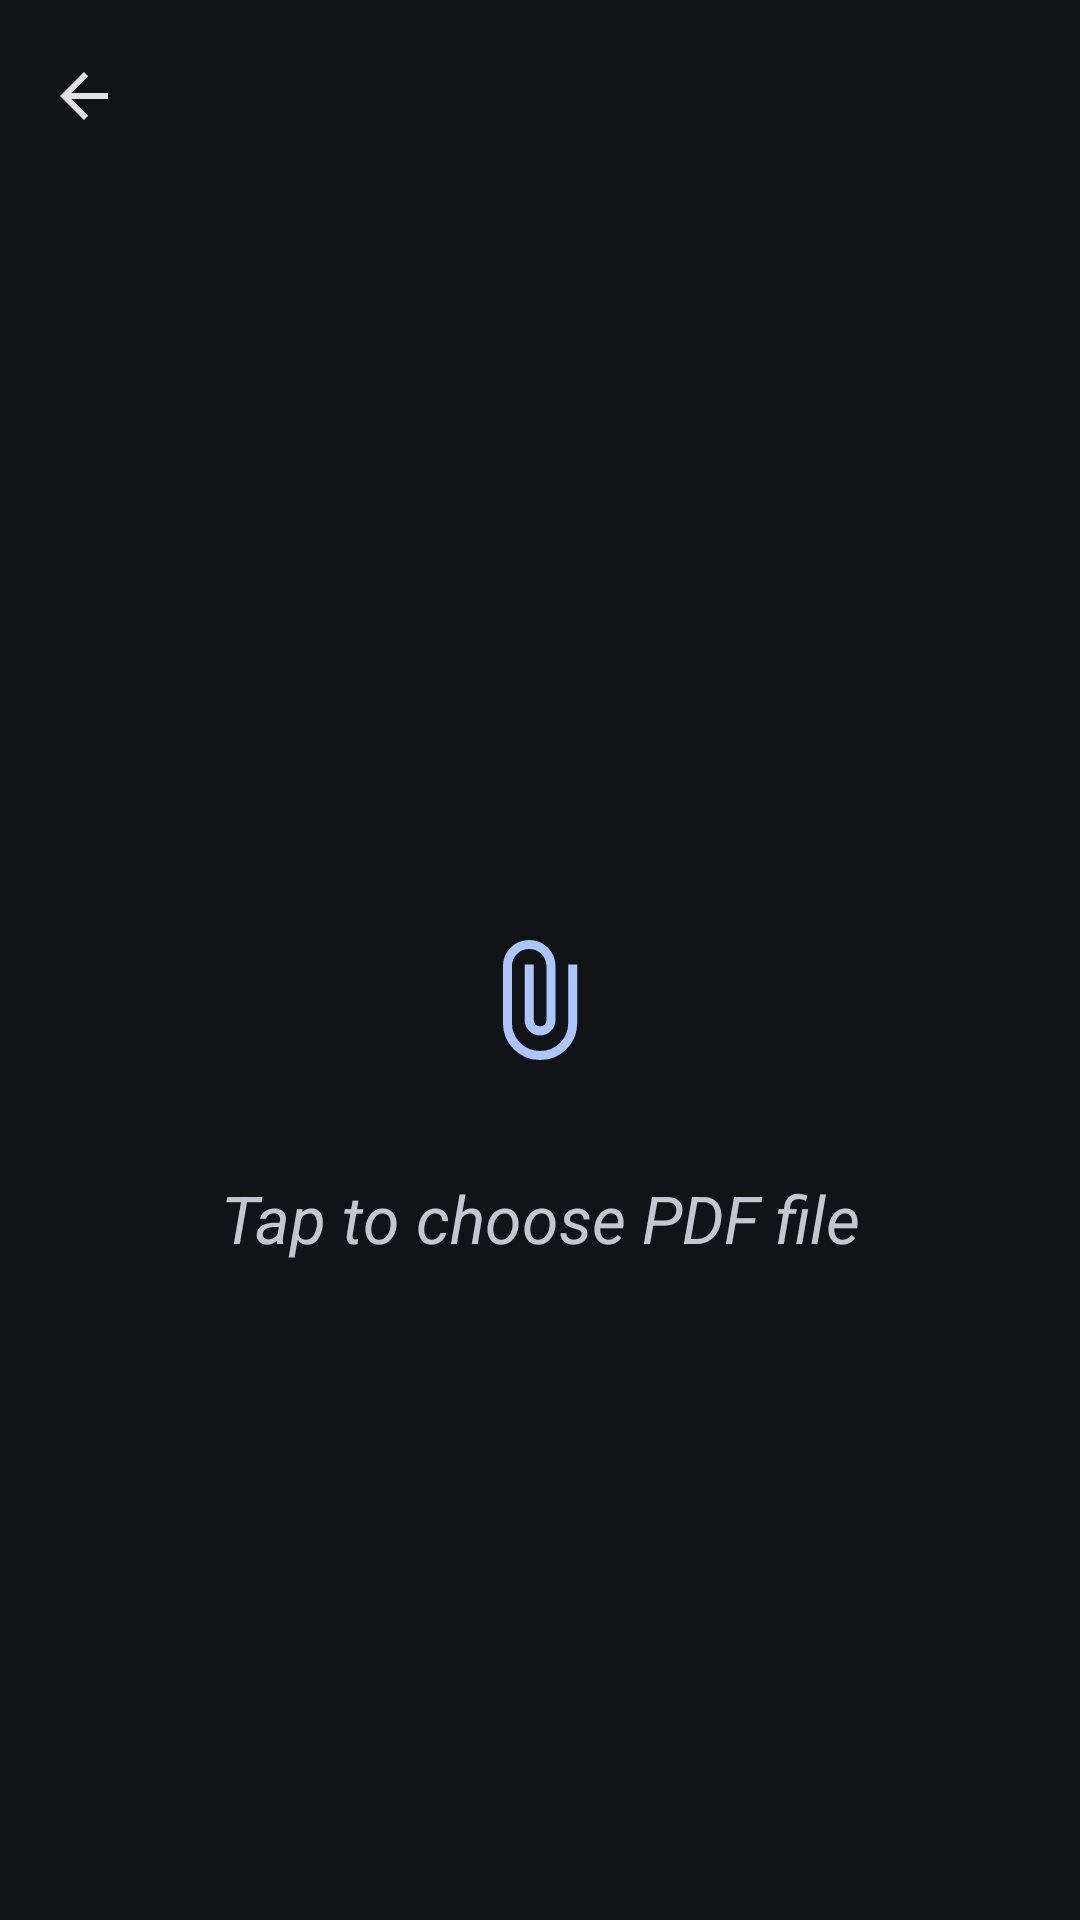

Icons on this 1080px x 1920px Android screen, each with the point to tap as point (x, y):
attach file: point (540, 1000)
